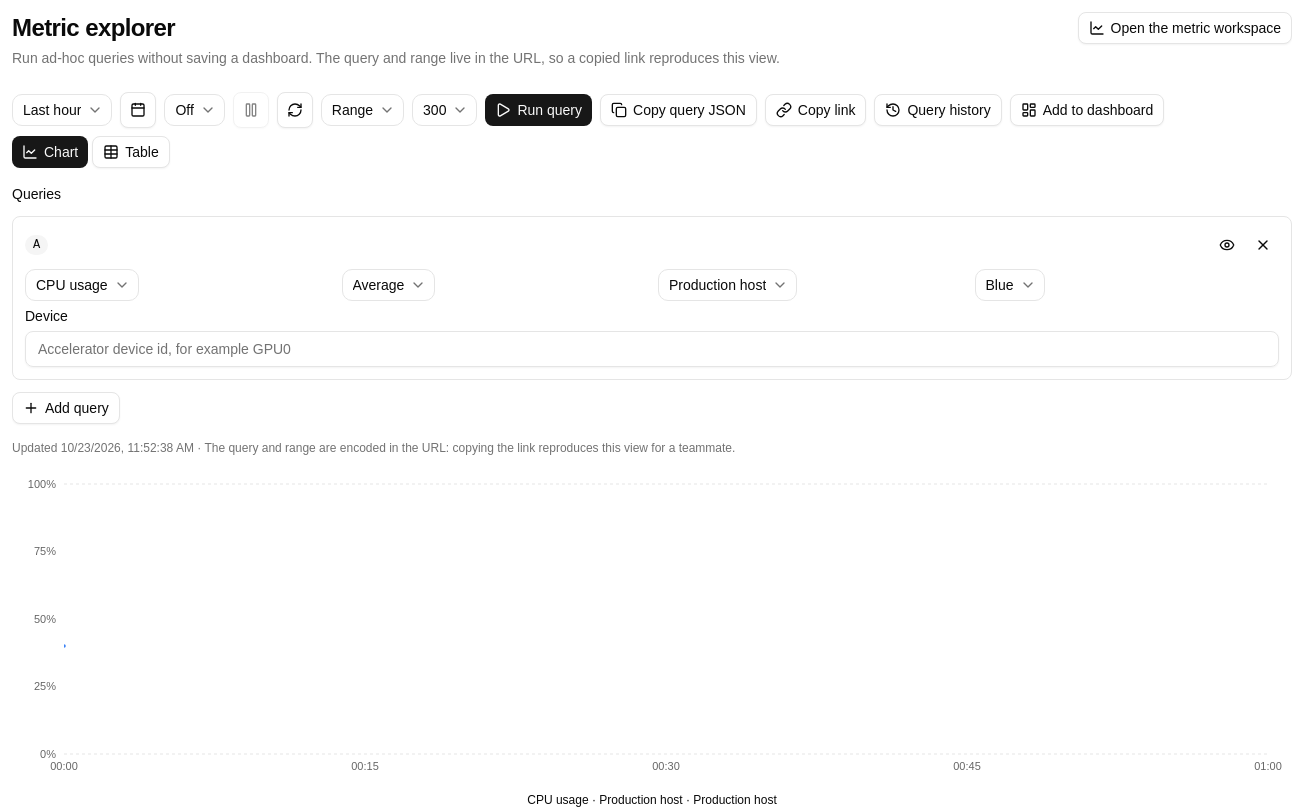
Test: metrics explore page › runs an instant query and renders the newest raw sample
Check: the dropdown named "Aggregation" is shown, box [342, 269, 435, 301]
Click the dropdown named "Query type": (362,110) [321, 94, 404, 126]
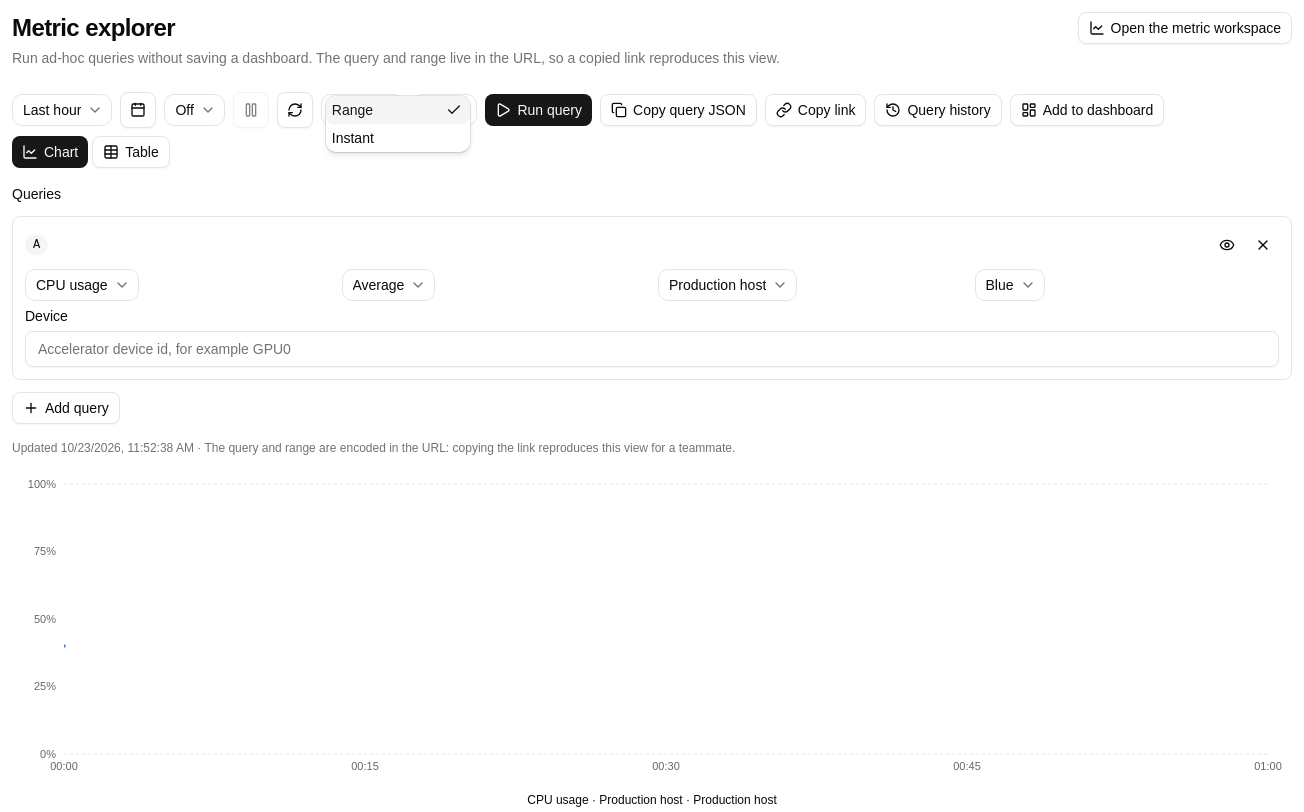
Click the option "Instant": (353,138) [332, 130, 374, 146]
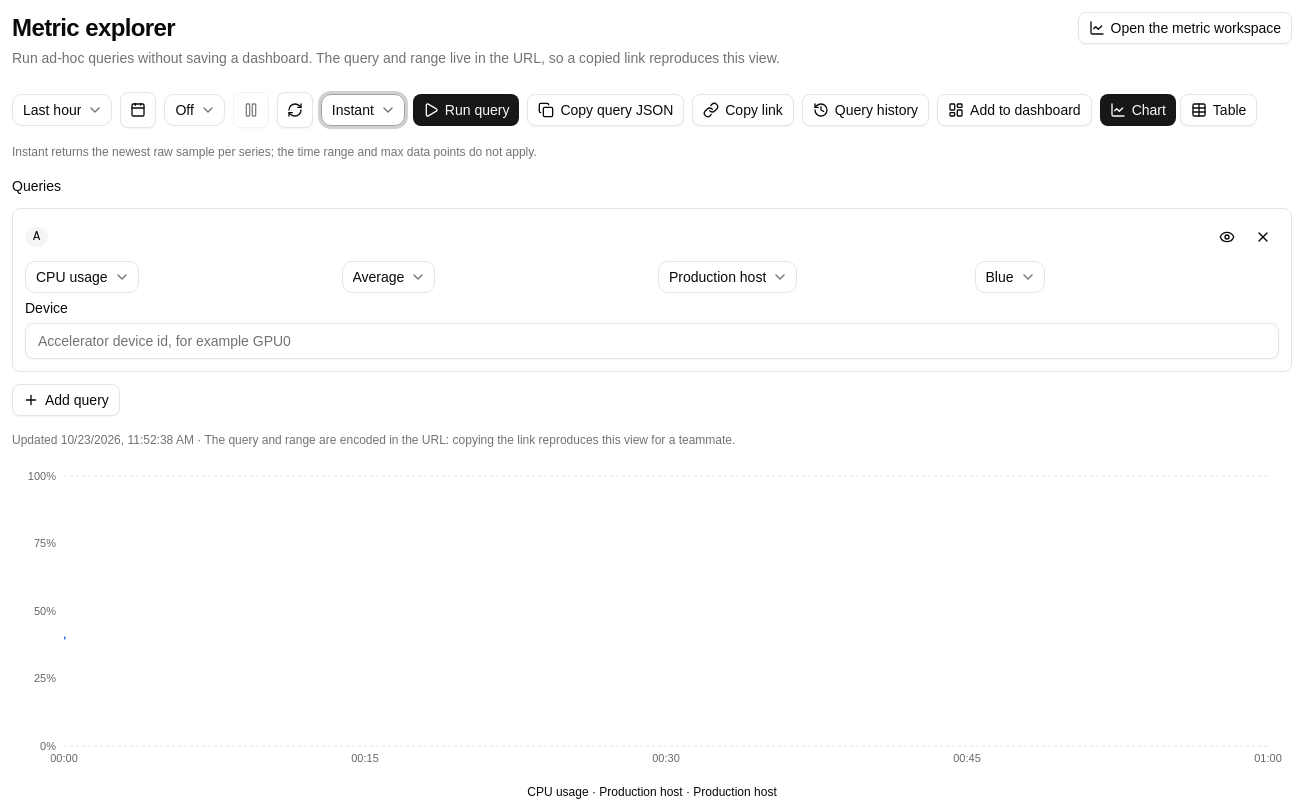
Click the button "Run query": (466,110) [413, 94, 519, 126]
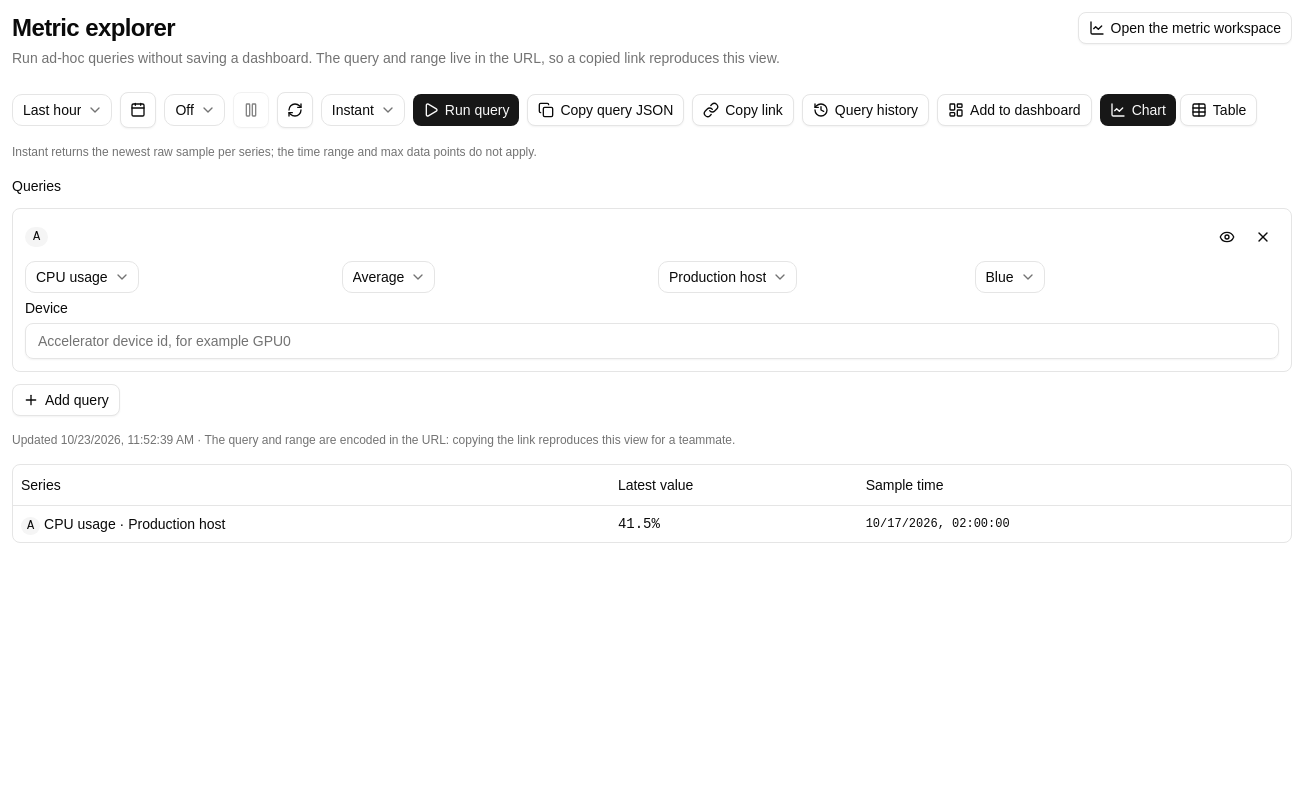
Check: the text "Instant returns the newest raw sample" is shown, box [12, 145, 537, 159]
Check: the element named "Instant results" shows "41.5%", box [618, 516, 660, 532]
Check: the element named "Instant results" shows "CPU usage", box [44, 516, 225, 532]
